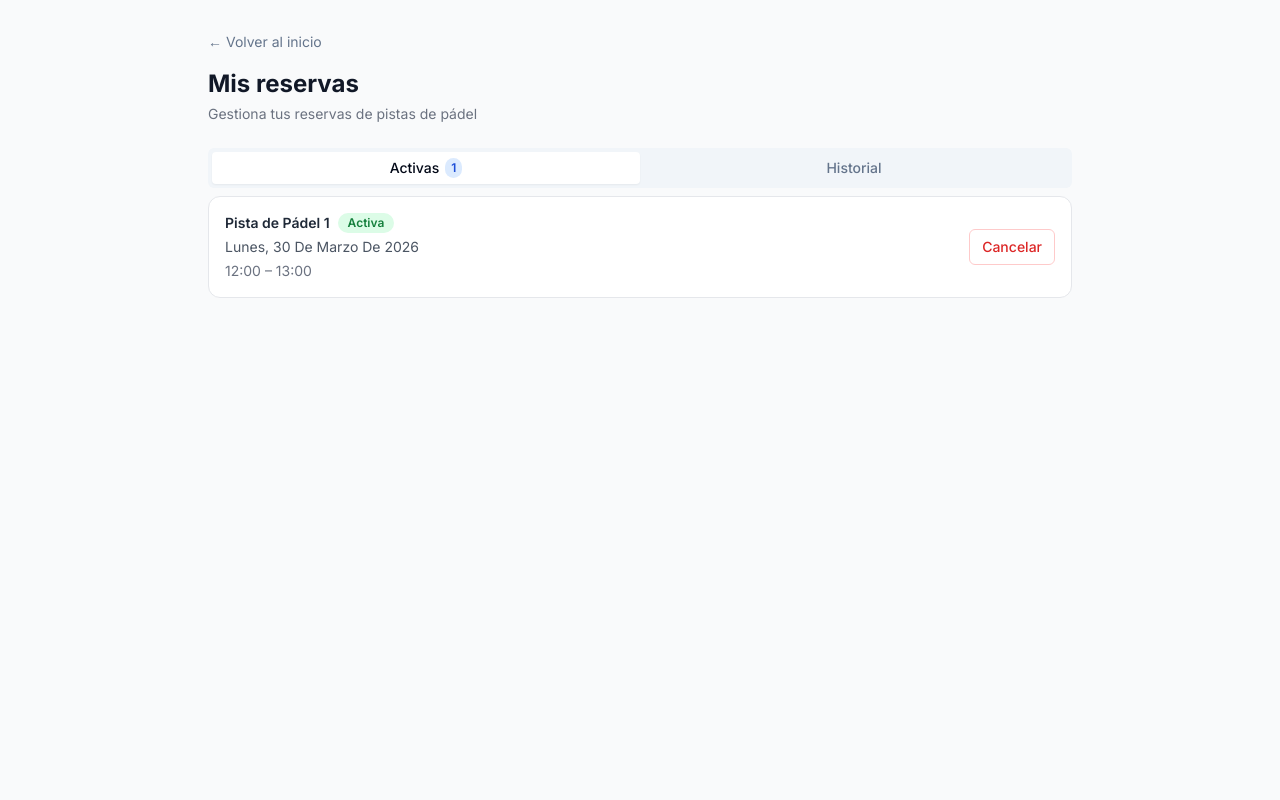
Scenario: PaginaMisReservas › debería abrir el dialog de cancelación al pulsar Cancelar
Click the button "Cancelar": (1012, 247) [969,229,1055,265]
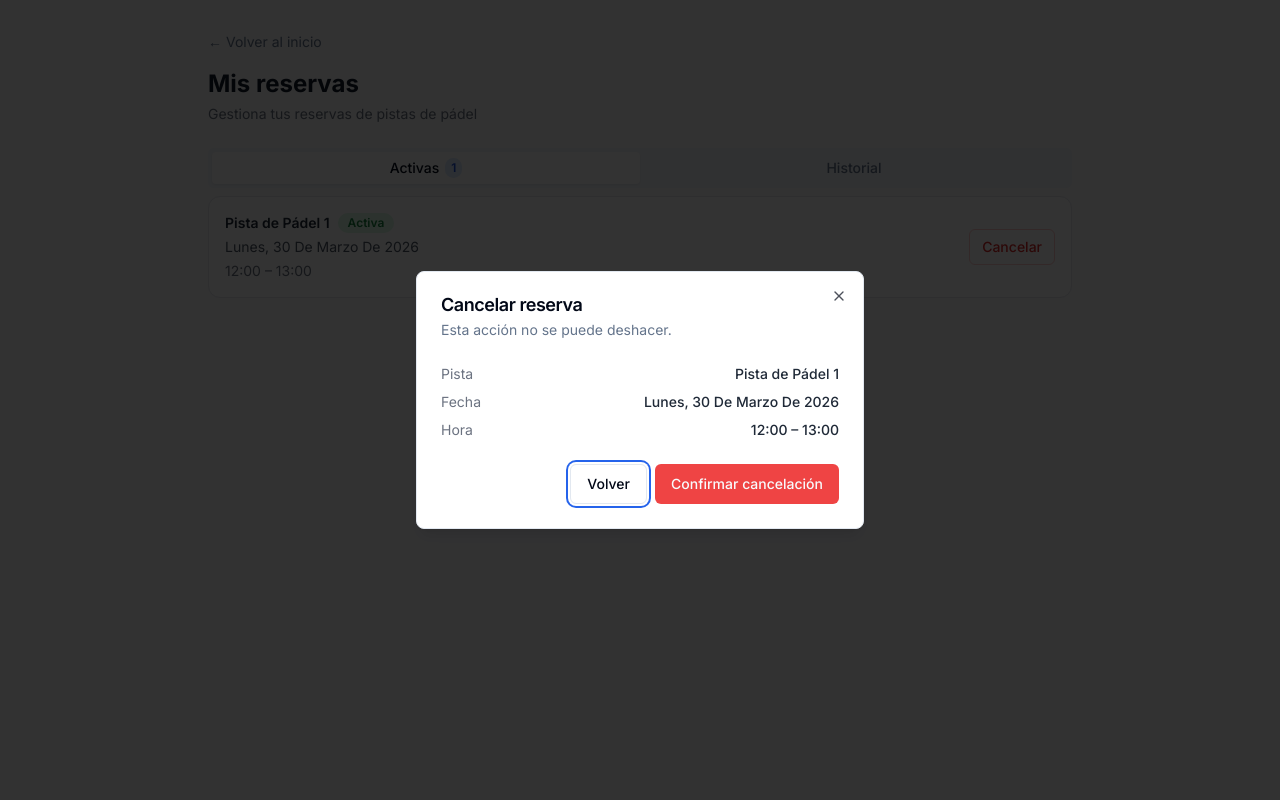
Expected: the dialog is shown, [416,271,864,529]
Expected: the heading "Cancelar reserva" is shown, [441,294,582,315]
